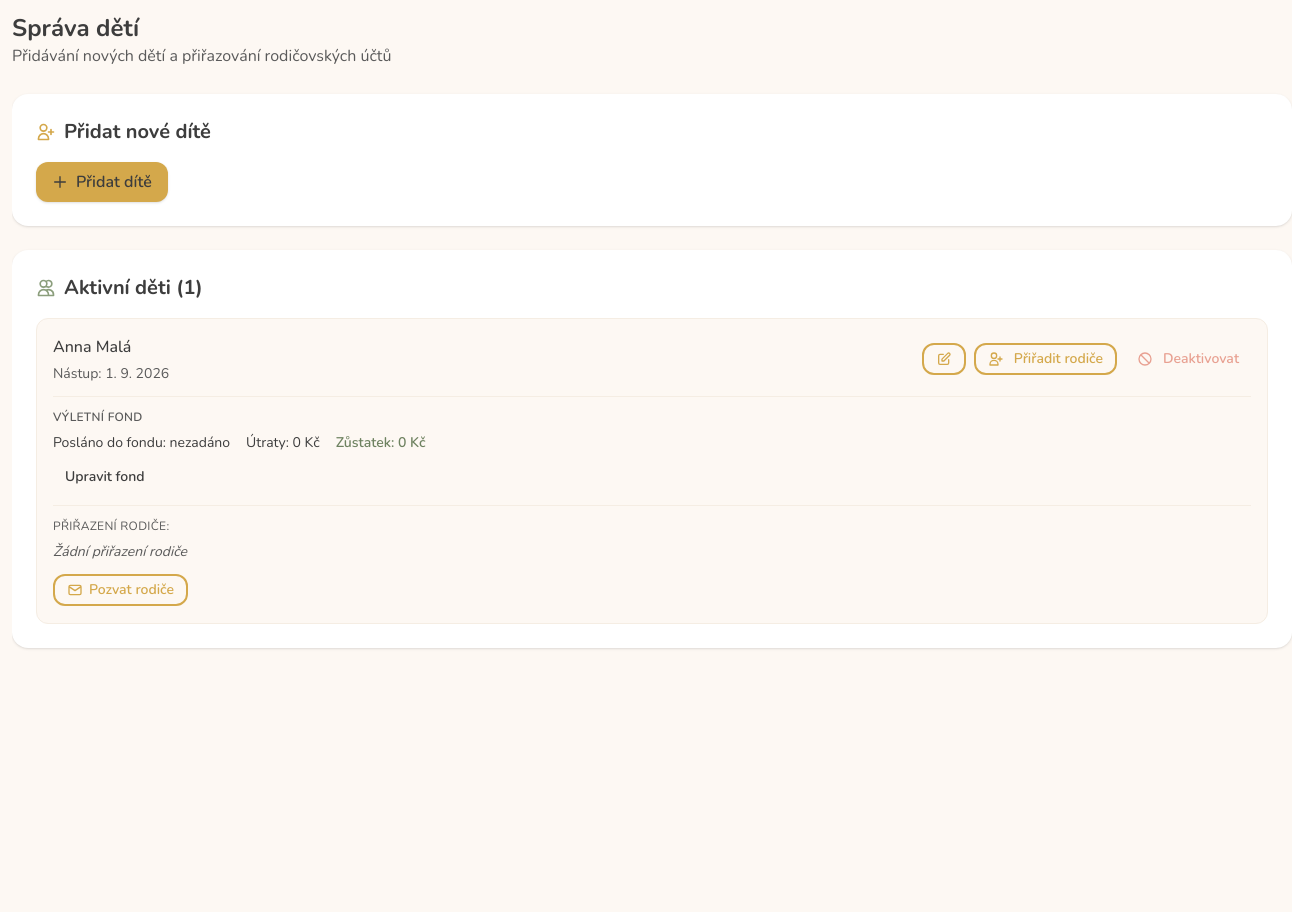
ChildrenManagementPage › saves the no-lunch setting from child editing
This screenshot has width=1292, height=912.
Click the button named "Upravit Anna Malá" at (944, 359), box [922,343,966,375]
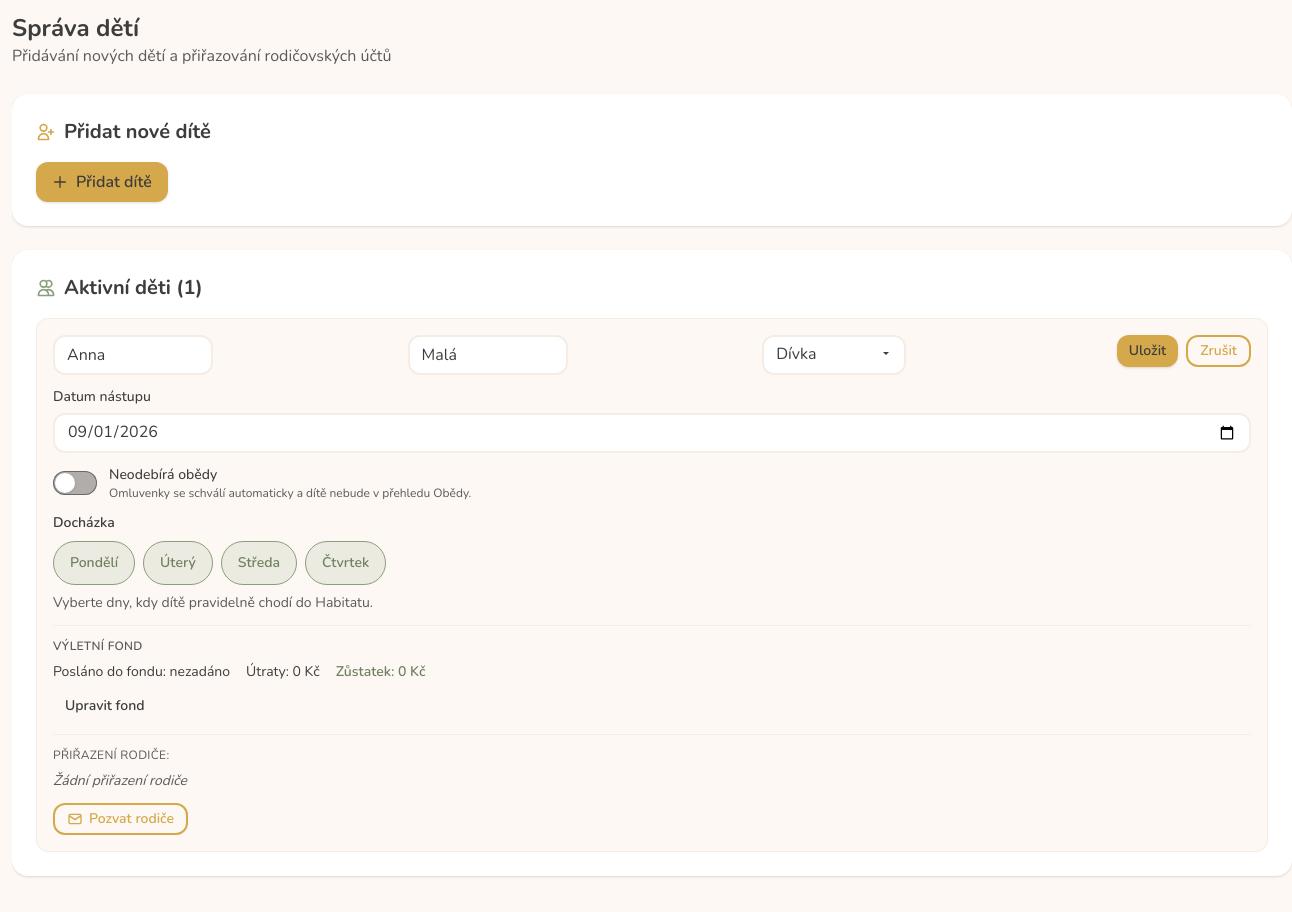
Click the checkbox labelled "Neodebírá obědy" at (262, 483), box [53,465,471,501]
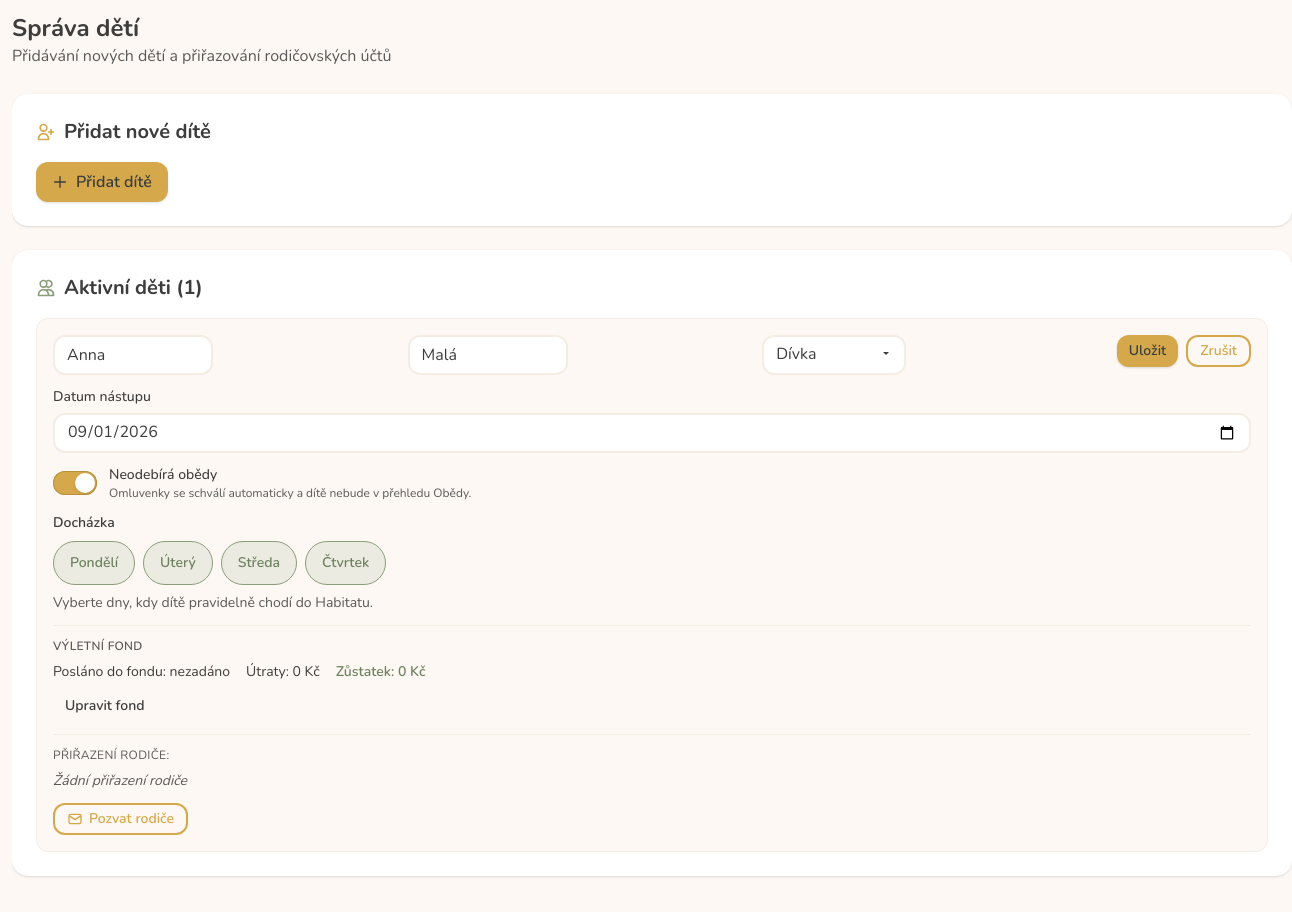
Click the button "Uložit" at (1147, 351), box [1117,335,1178,367]
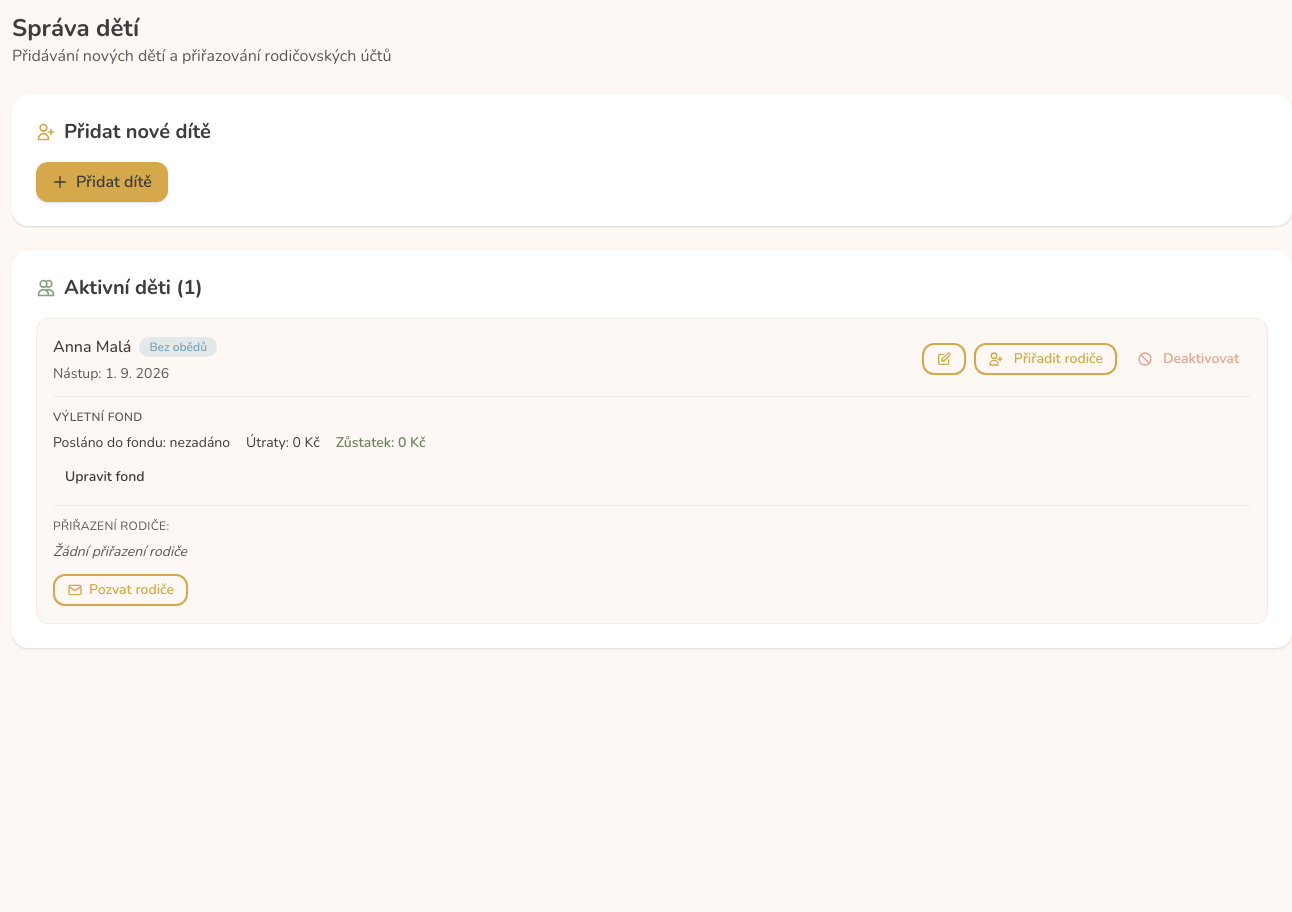
Now the text "Bez obědů" is shown, box [139,337,217,357]
